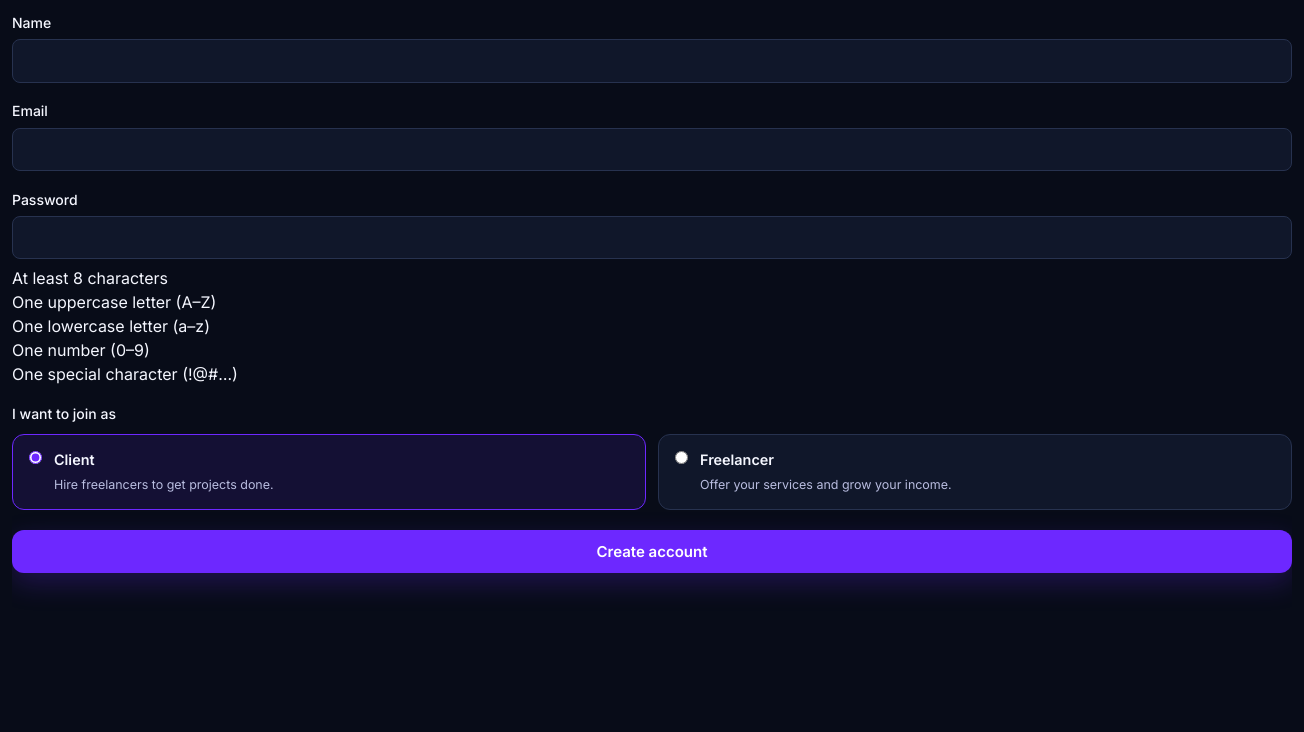
RegisterForm › shows an error when name is missing
Type "test@example.com" into the field labelled "Email". click: (652, 150)
box: [12, 128, 1292, 171]
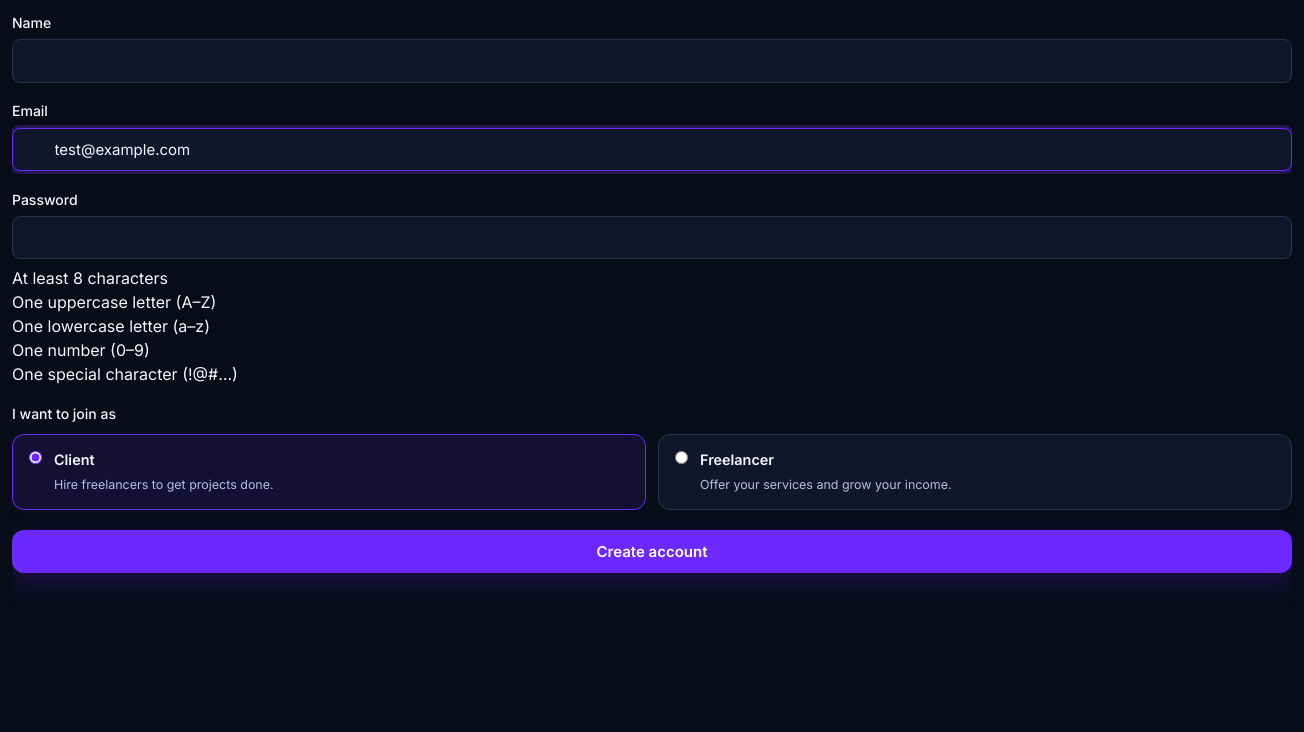
Type "Password1!" into the password field with id "rf-password". click: (652, 238)
box: [12, 216, 1292, 260]
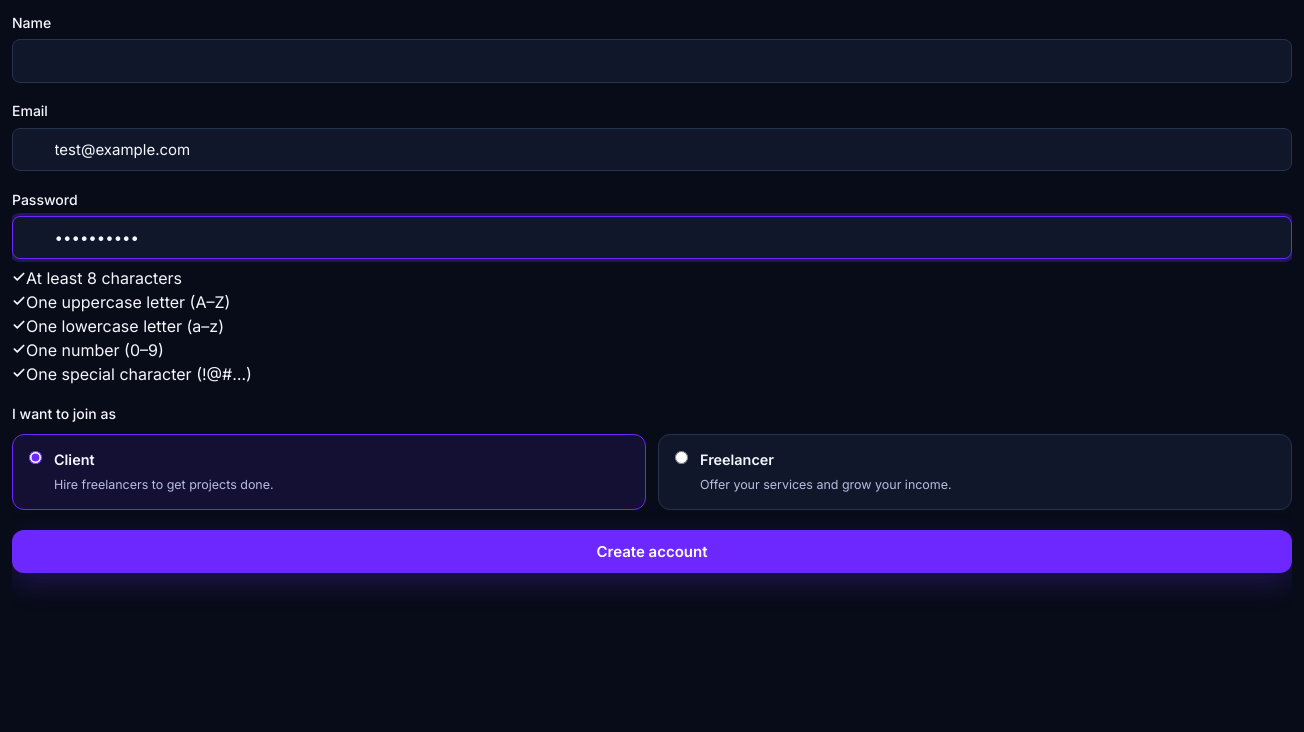
Click the radio button labelled "Client Hire freelancers to get projects done.". click: (36, 458)
box: [29, 452, 42, 464]
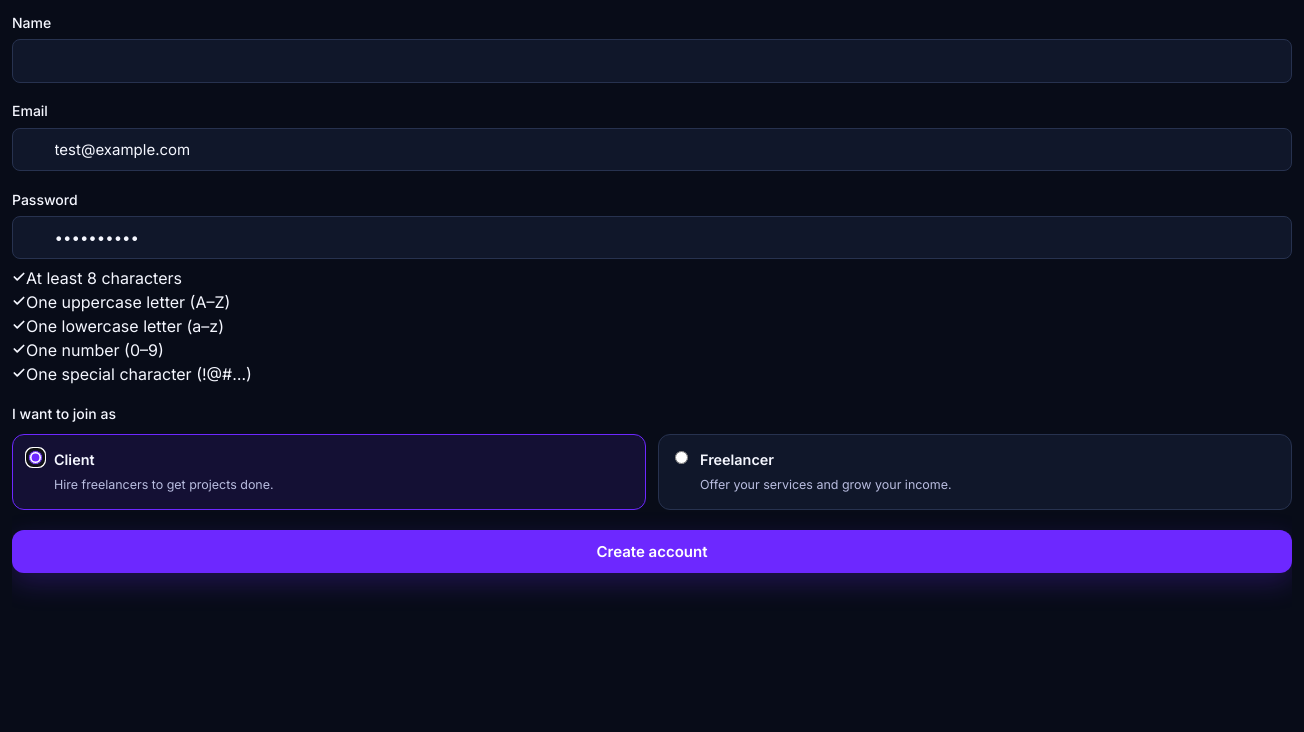
Click the button "Create account". click: (652, 552)
box: [12, 530, 1292, 574]
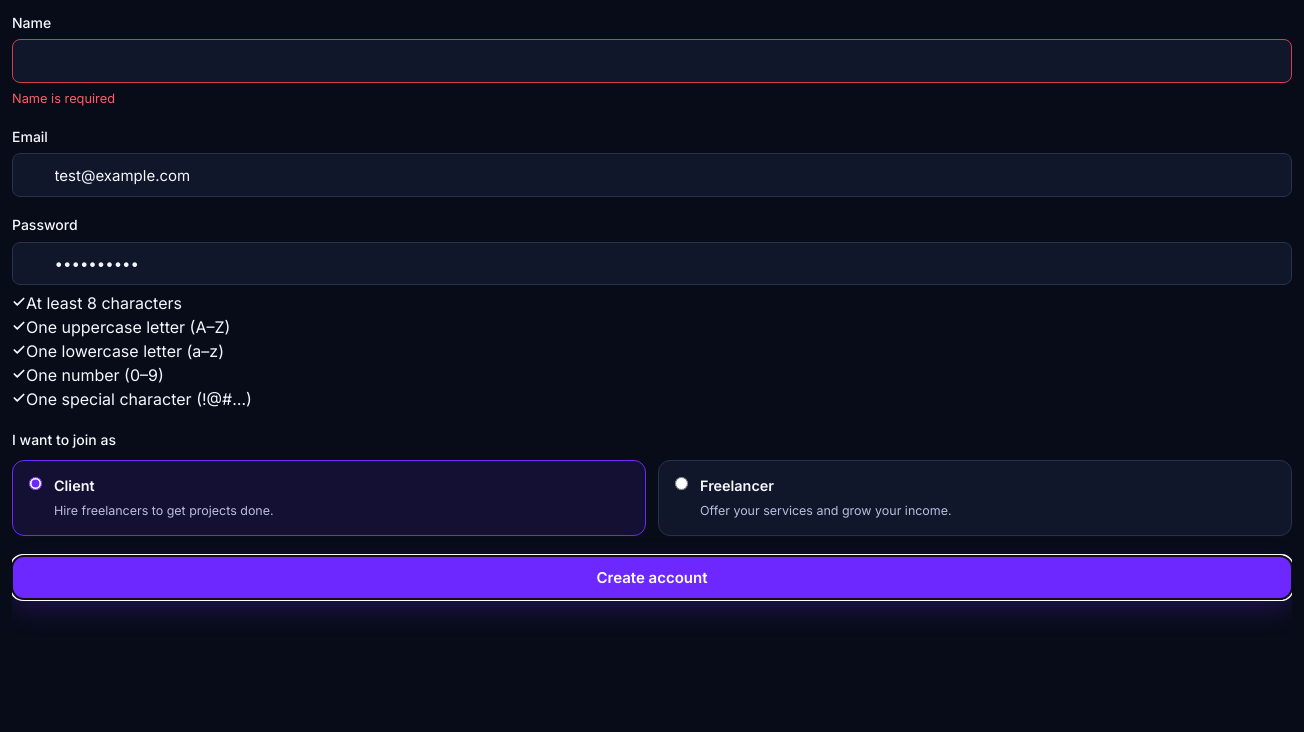
Check: the message "Name is required" is shown, box [12, 91, 115, 106]
